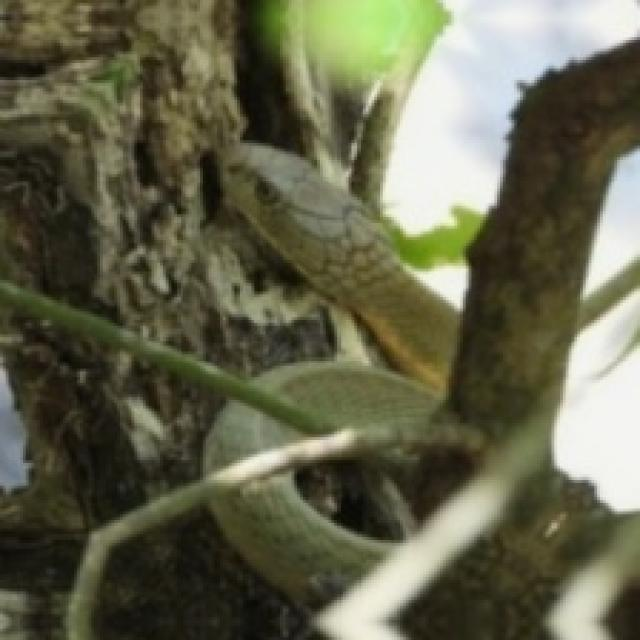king cobra: (220, 143, 454, 389), (211, 474, 391, 603), (259, 361, 438, 428), (205, 402, 302, 472)
